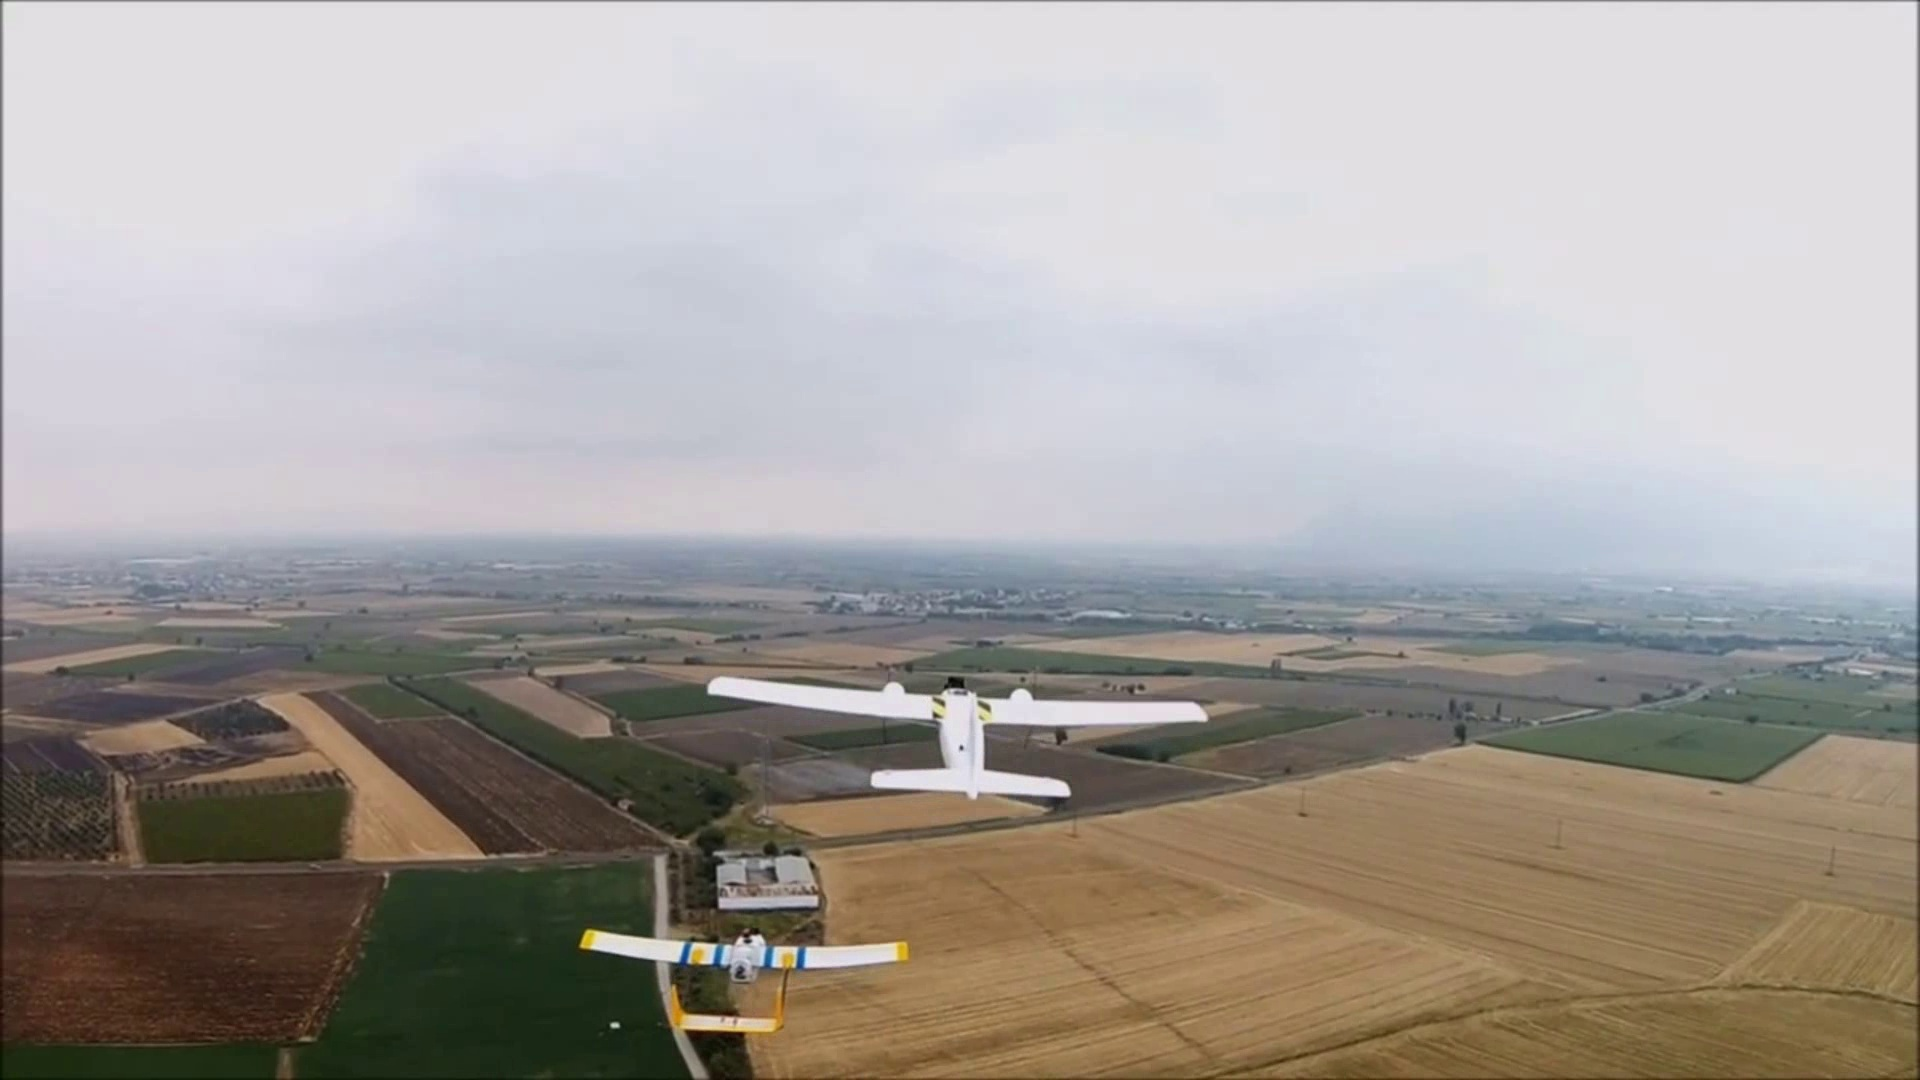airplane: (688, 657, 1216, 725)
